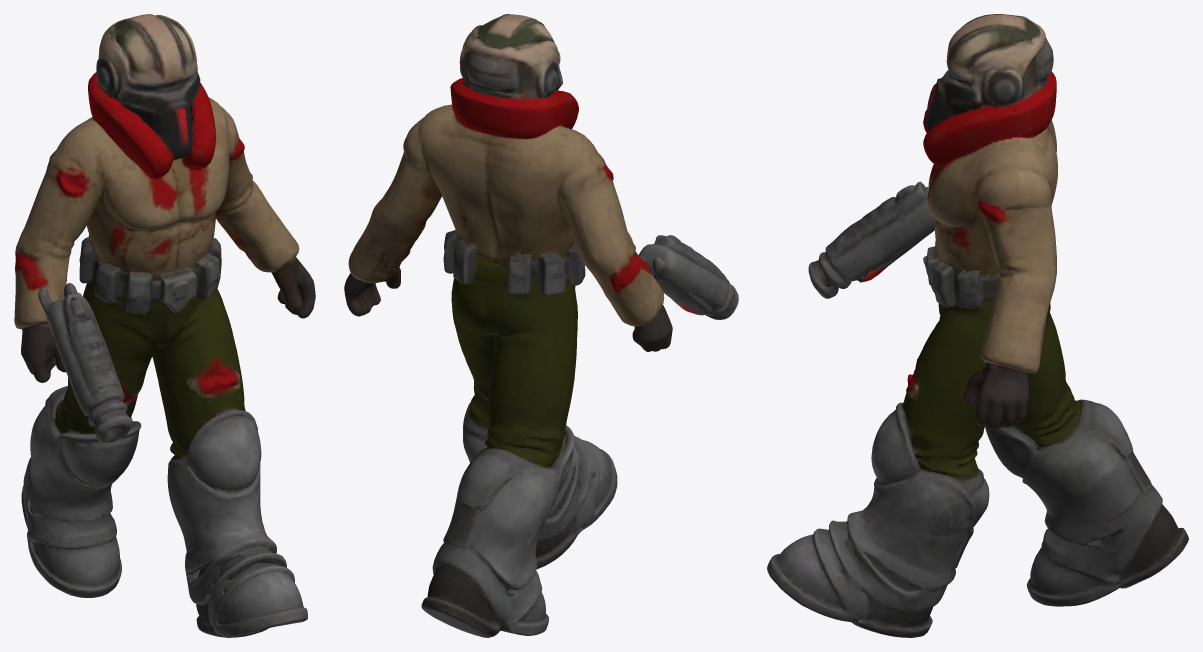
File: POSSC1_2026-08-15T181611.579.glb
3 views of the same model, side by side, from view 1: azimuth 30°, elevation 25°; view 2: azimuth 150°, elevation 25°; view 3: azimuth 270°, elevation 25° (orthographic). The views are drawn at different scales.
Parts seen in each view (by area): view 1: world; view 2: world; view 3: world.
Part boxes in pixels (x1,y1,x2,y2): world: (14,14,315,637); world: (344,14,738,637); world: (767,14,1188,637).
Size of the model in its own units: 0.5419 by 1 by 0.6432.
1 material, 1 textured.
